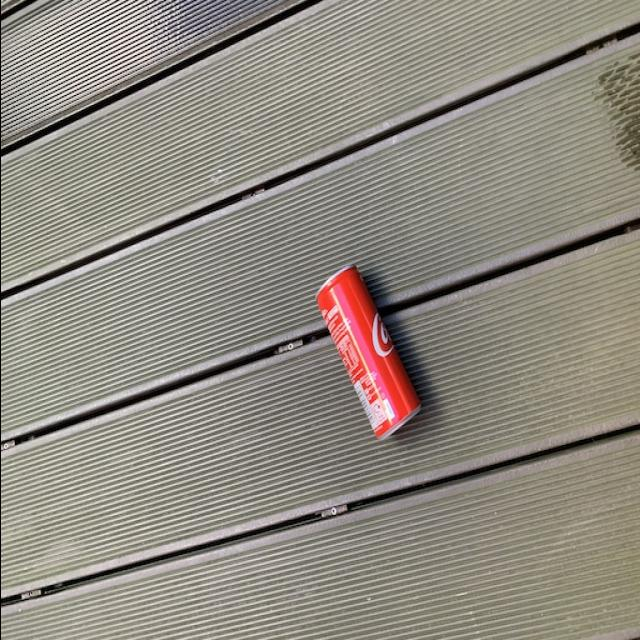litter: (309, 258, 423, 447)
